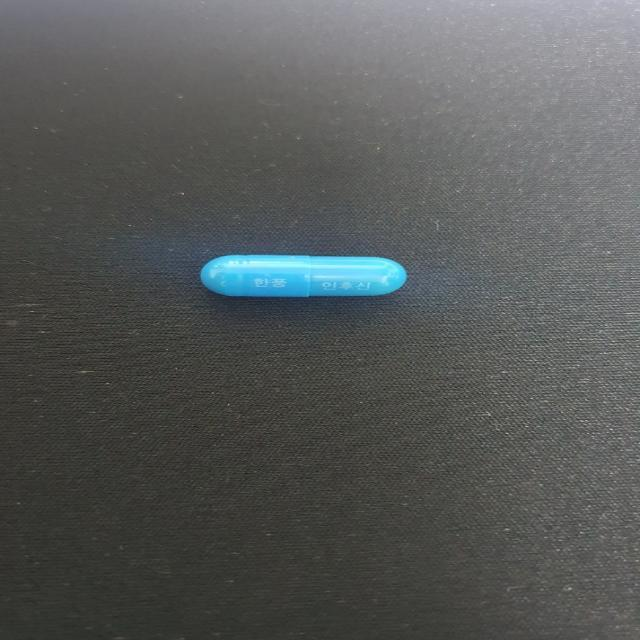pill: (193, 230, 419, 318)
